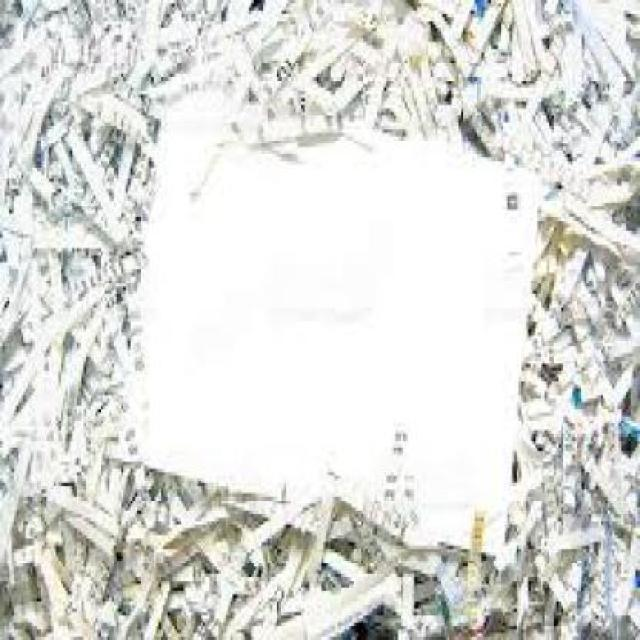paper: (0, 0, 638, 637), (107, 102, 538, 560)
